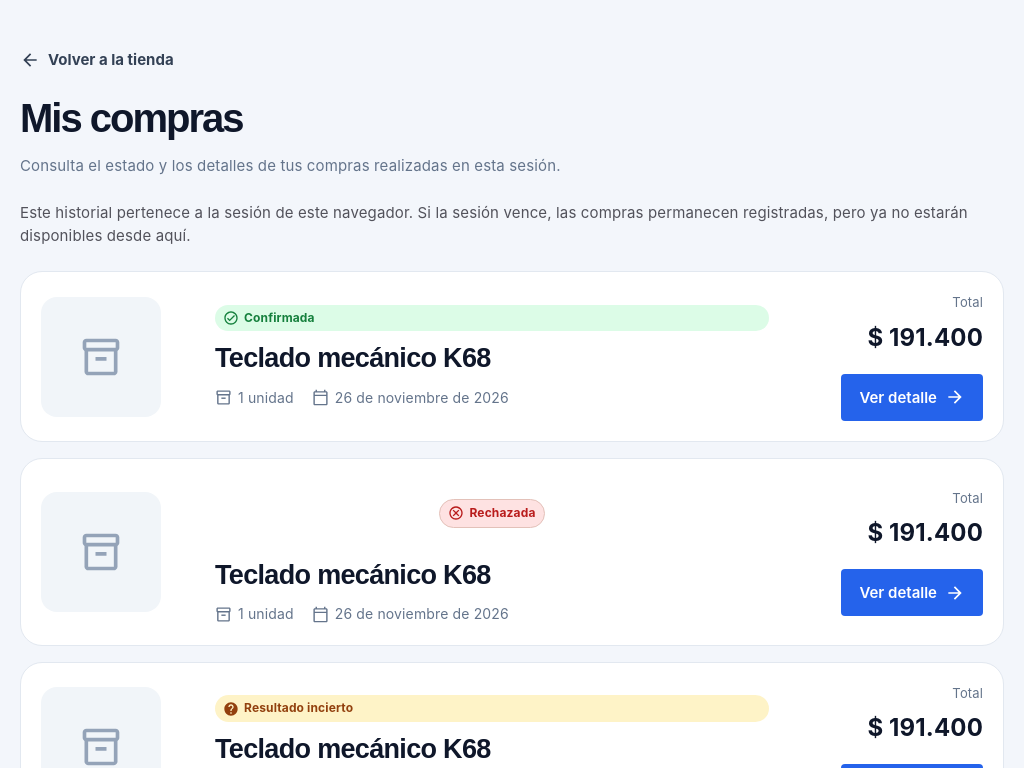
Scenario: diferencia todos los estados y abre el detalle sin efectos propios
expect the text "Confirmada" is shown: met, box 215,305 -> 769,331
expect the text "Rechazada" is shown: met, box 440,499 -> 544,528
What coordinates should you click on to do the following:
click the 1st button "Ver detalle"
I would click on:
 (912, 397)
Its box is 841,374 -> 983,421.
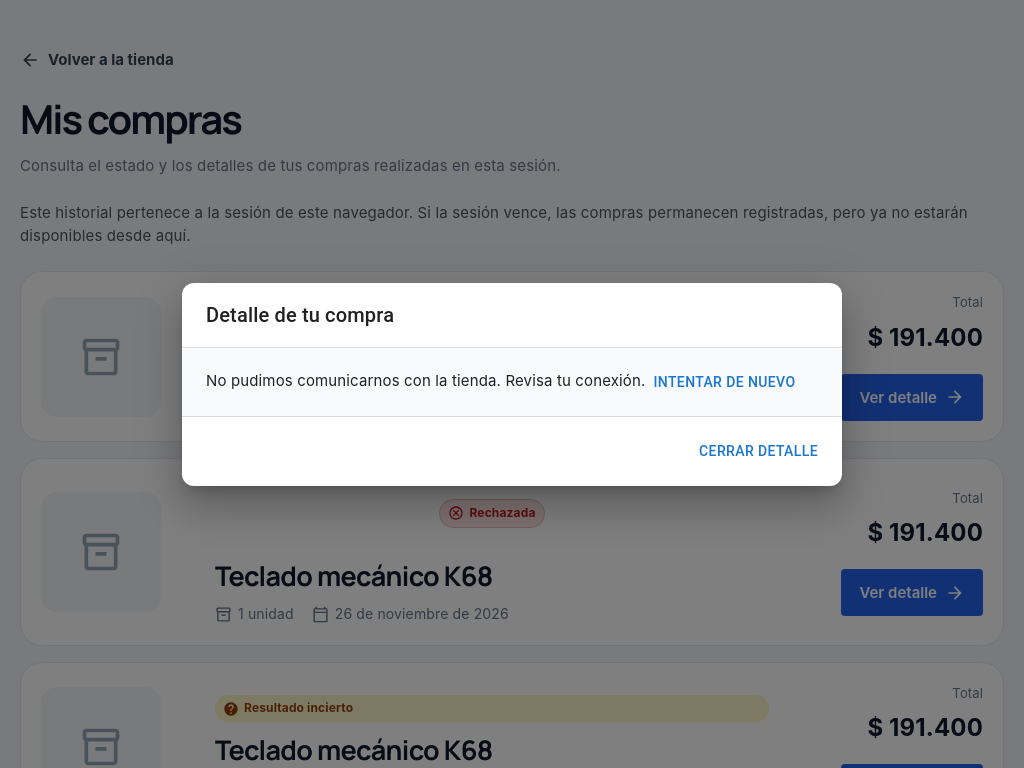
expect the dialog is shown: met, box 182,282 -> 842,486
